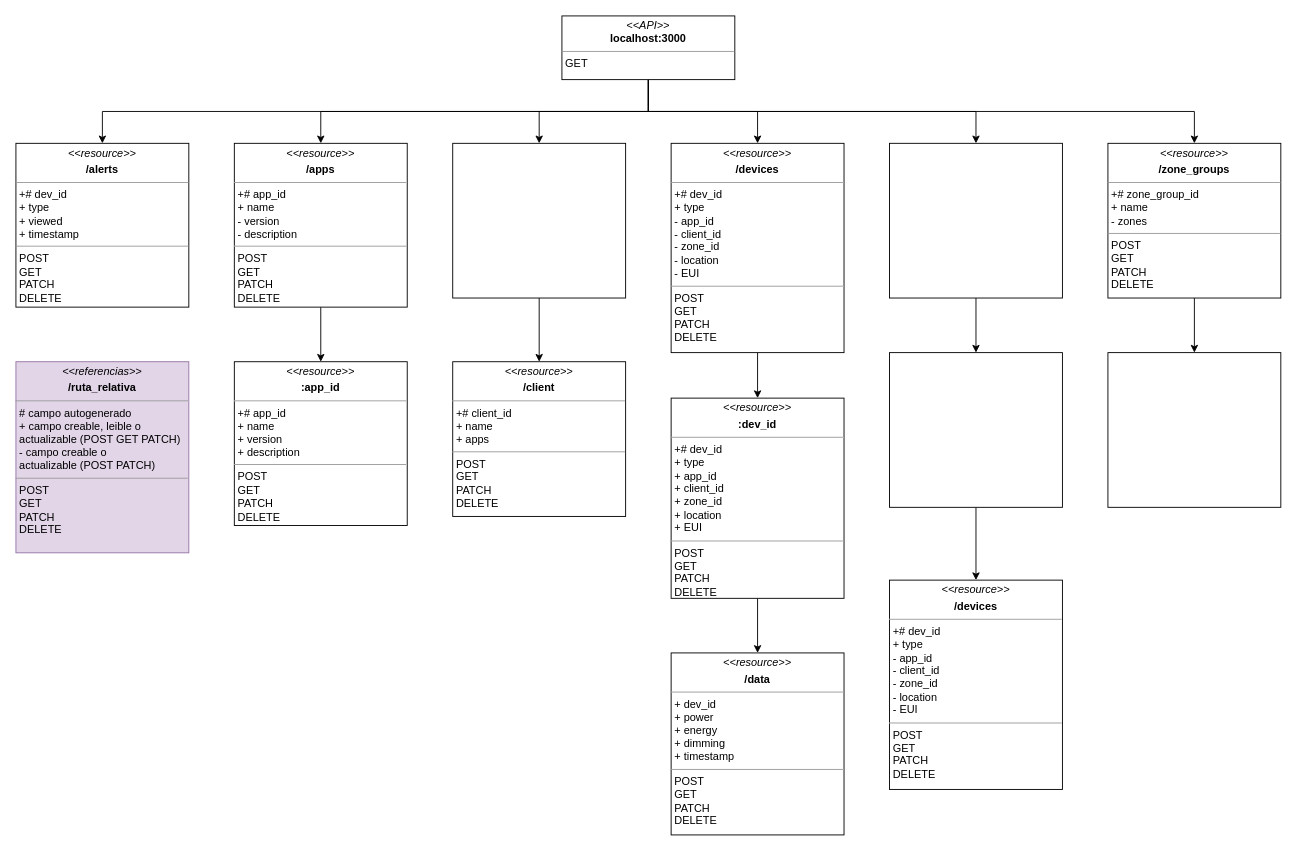
The diagram is 1297 pixels wide and 851 high, and some of its shapes have lost their labels. The centre of each missing label's shape, as x and y in pixels:
<<resource >> /client +# client_id + name - apps POST GET PATCH DELETE: [539,220]
<<resource >> /zone_groups +# zone_group_id + name + zones POST GET PATCH DELETE: [1194,429]
<<resource >> /zones +# zone_id + name - geofence POST GET PATCH DELETE: [975,220]
<<resource >> :zone_id +# zone_id + name + geofence POST GET PATCH DELETE: [975,429]
